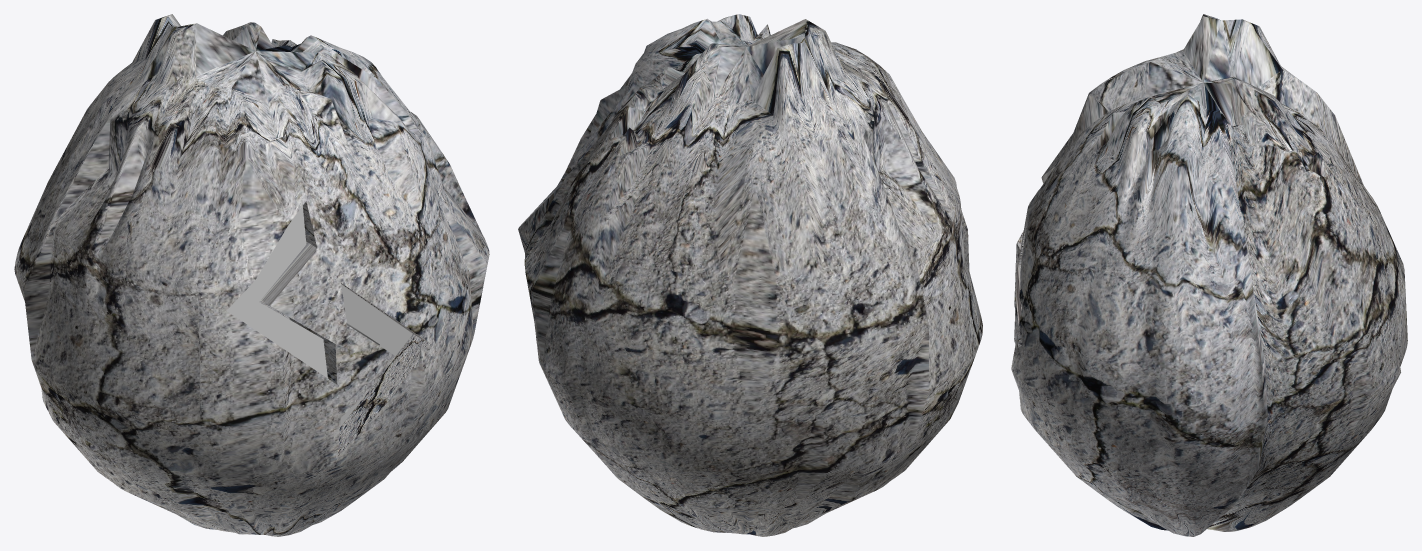
The model's file is Rune.obj.
3 renders of one model, left to right at view 1: azimuth 30°, elevation 25°; view 2: azimuth 150°, elevation 25°; view 3: azimuth 270°, elevation 25°, orthographic. The views are drawn at different scales.
Visible parts, largest first — view 1: pSphere3, pCube3, pCube4; view 2: pSphere3; view 3: pSphere3.
Boxes of the visible parts, x1=… form: pSphere3: x1=14, y1=14, x2=489, y2=536; pCube3: x1=226, y1=206, x2=327, y2=378; pCube4: x1=340, y1=284, x2=412, y2=427; pSphere3: x1=518, y1=14, x2=982, y2=536; pSphere3: x1=1011, y1=14, x2=1407, y2=536.
Size of the model in its own units: 4.09 by 4.93 by 3.65.
